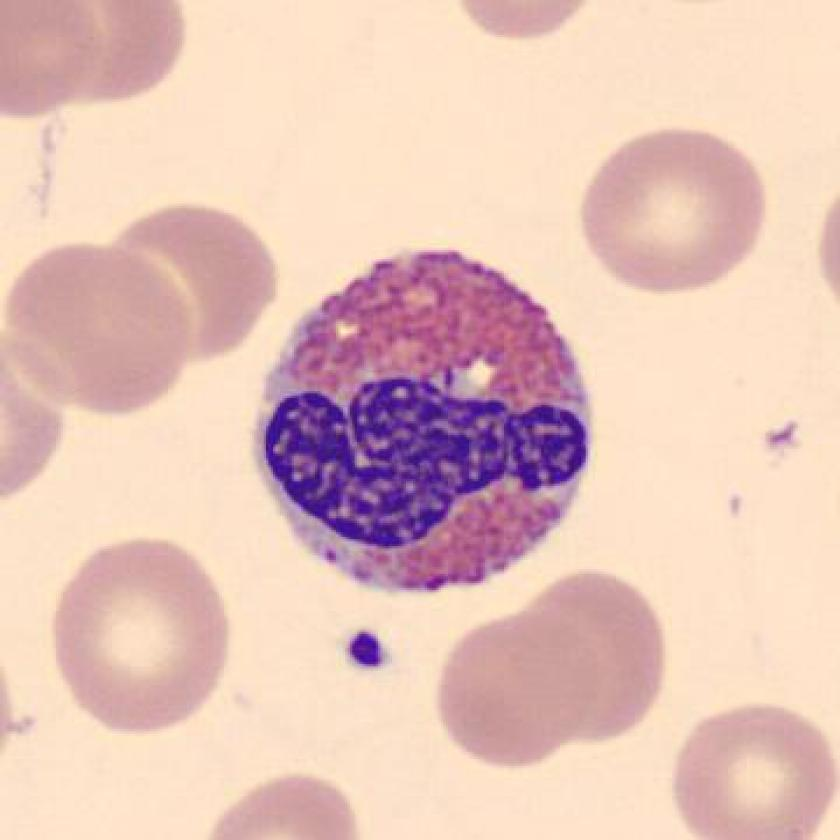eosinophil: (234, 230, 615, 612)
